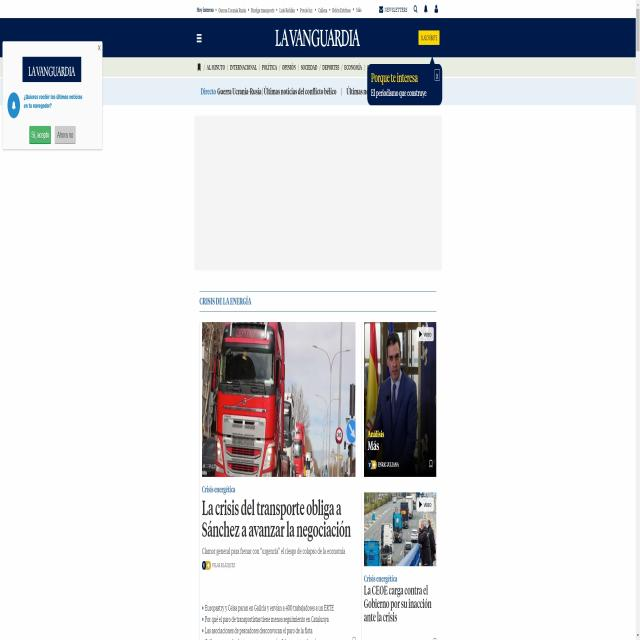menu-bar: (376, 2, 441, 16)
tab-bar: (195, 57, 365, 77)
